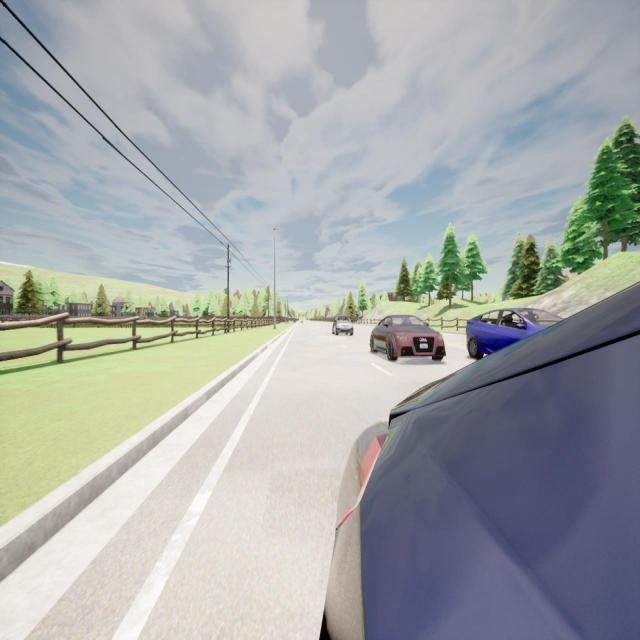Vehicle: (325, 283, 639, 637), (466, 311, 566, 358), (370, 315, 445, 361), (332, 315, 354, 336), (300, 318, 306, 324)
